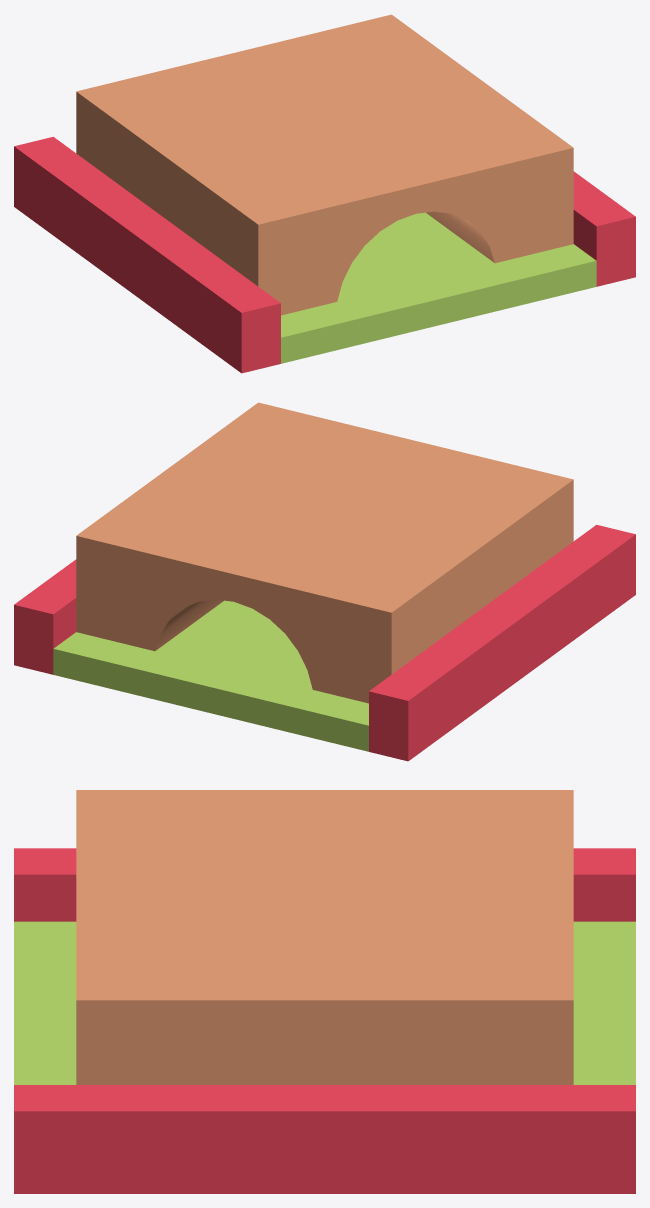
The model's file is tunnelWide.fbx.
3 renders of one model, top to bottom at view 1: azimuth 30°, elevation 25°; view 2: azimuth 150°, elevation 25°; view 3: azimuth 270°, elevation 25°, orthographic. The views are drawn at different scales.
Visible parts, largest first — view 1: tunnelWide; view 2: tunnelWide; view 3: tunnelWide.
Part boxes in pixels (x1,y1,x2,y2): tunnelWide: (14, 14, 635, 373); tunnelWide: (14, 402, 635, 761); tunnelWide: (14, 790, 635, 1193).
Bounding box in the file's own units: 10 × 2.97 × 10.
